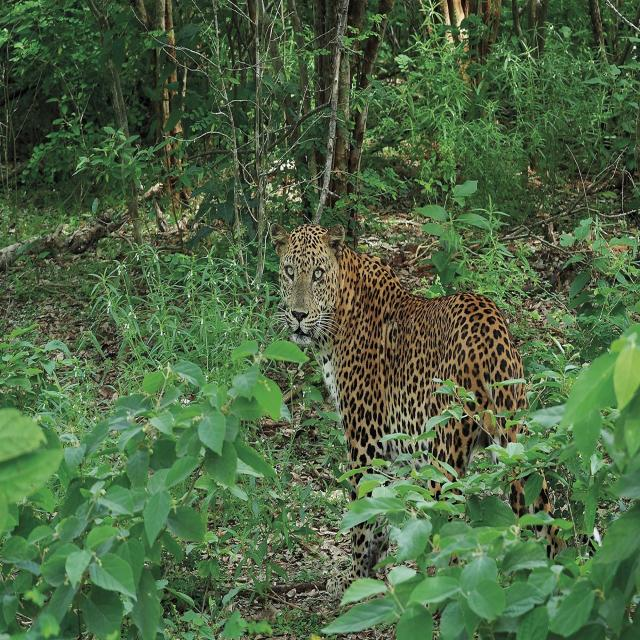Leopard: (270, 218, 553, 542)
